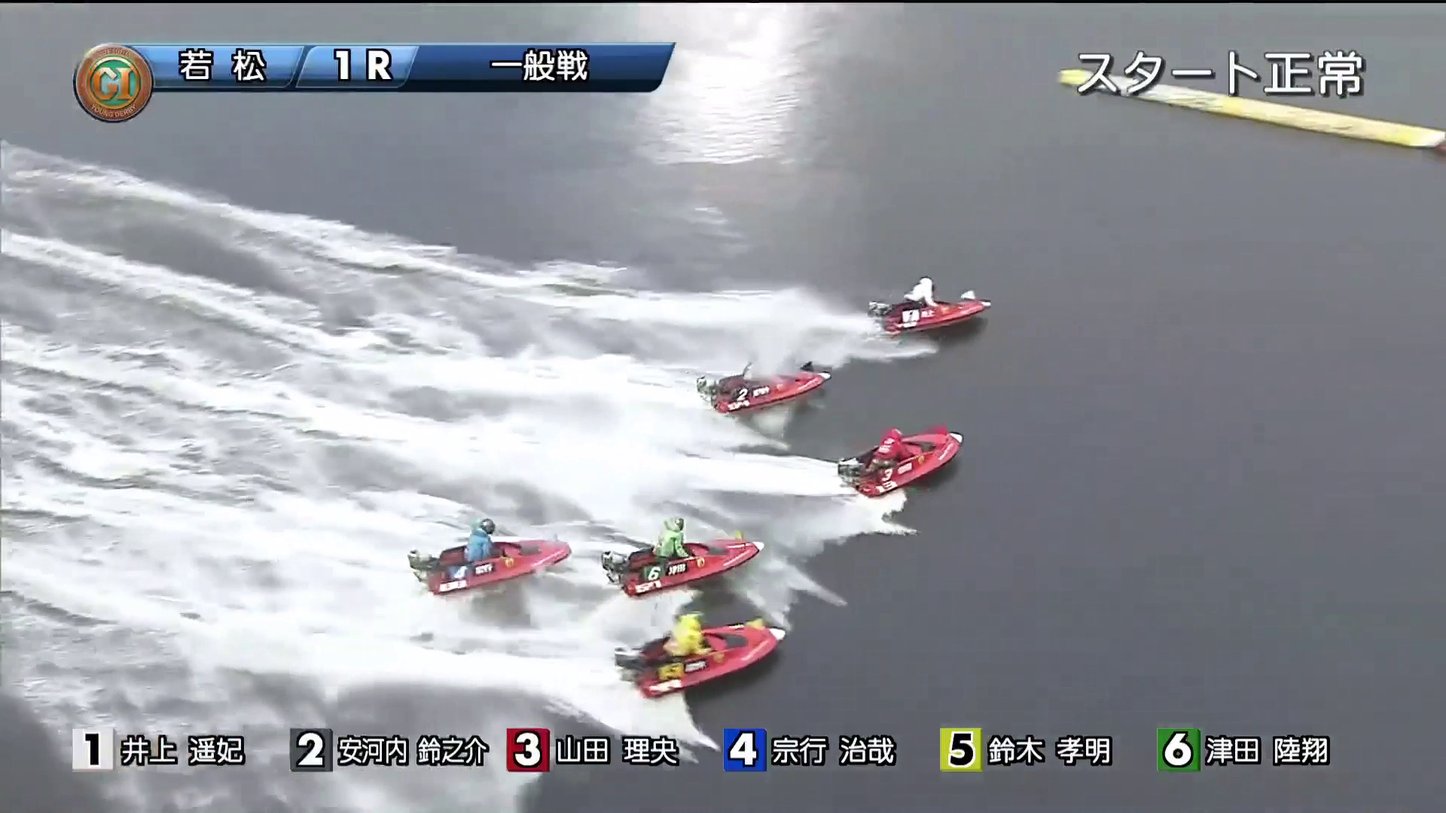１号艇: (892, 283, 1030, 336)
２号艇: (694, 353, 822, 413)
３号艇: (850, 443, 990, 489)
４号艇: (628, 523, 749, 588)
５号艇: (414, 535, 538, 590)
６号艇: (657, 634, 757, 690)
